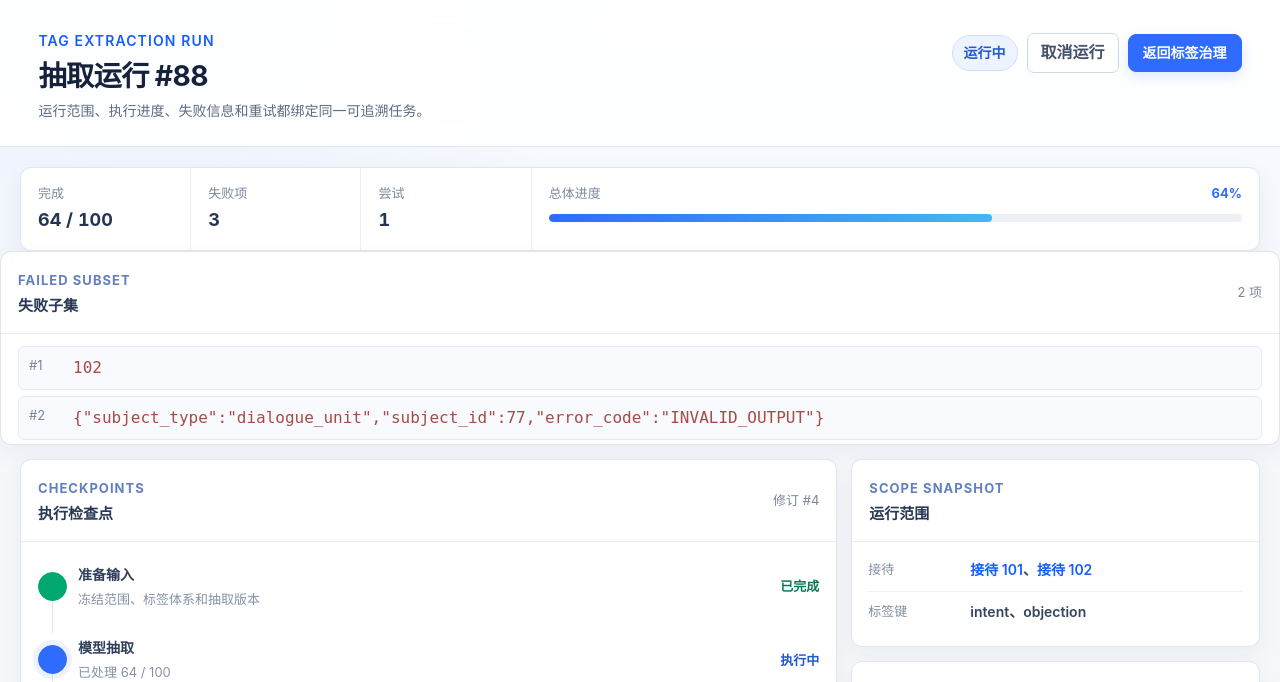
it: TagRunDetailPage › cancels a non-terminal run and keeps the terminal result visible
Expected: the heading "抽取运行 #88" is shown, [38, 59, 208, 93]
Click the button "取消运行" at (1073, 53), box [1027, 33, 1119, 73]
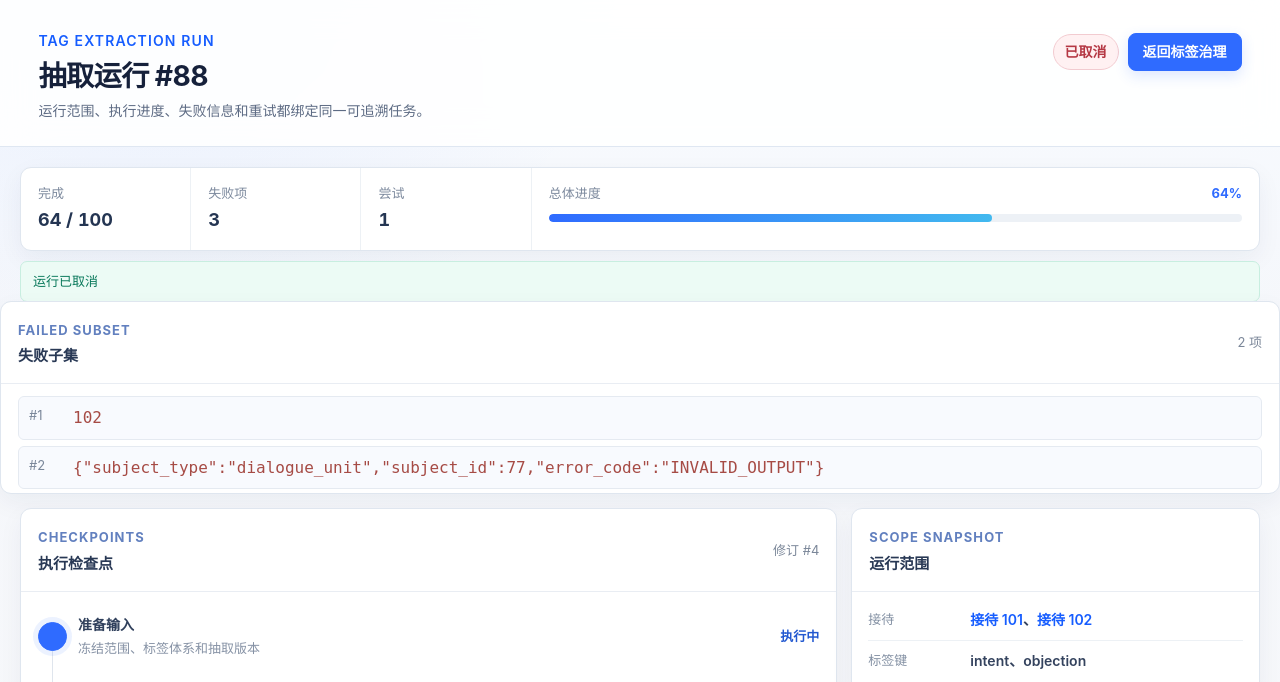
Result: the text "运行已取消" is shown at [20, 261, 1260, 302]
Result: the text "已取消" is shown at [1053, 34, 1119, 70]
Result: the button "取消运行" is gone
